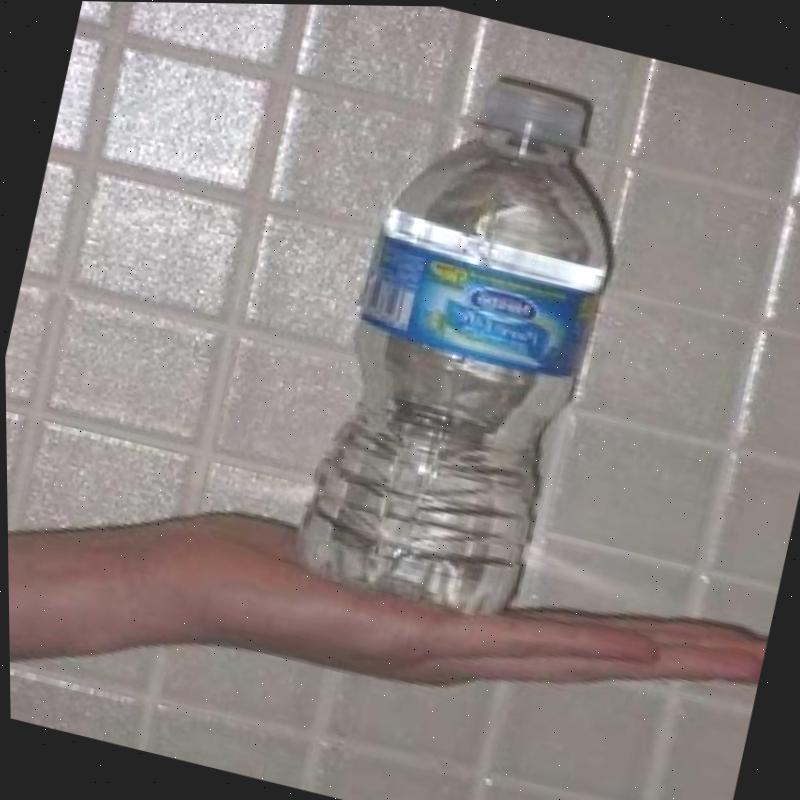botella: (277, 42, 653, 631)
